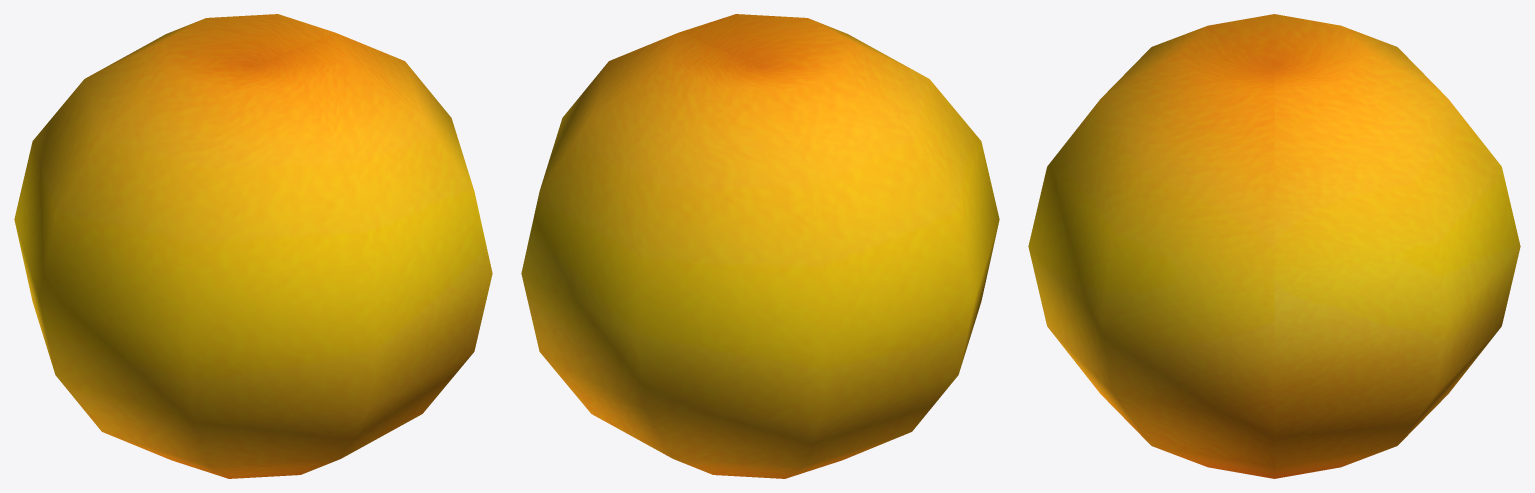
The model's file is Orange.fbx.
The picture shows the model from 3 angles, left to right: view 1: azimuth 30°, elevation 25°; view 2: azimuth 150°, elevation 25°; view 3: azimuth 270°, elevation 25°; orthographic projection.
Parts seen in each view (by area): view 1: Orange; view 2: Orange; view 3: Orange.
Boxes of the visible parts, left/top/right/bottom form: Orange: left=14, top=14, right=492, bottom=478; Orange: left=521, top=14, right=999, bottom=478; Orange: left=1028, top=14, right=1520, bottom=478.
Size of the model in its own units: 32.66 by 29.37 by 32.66.
